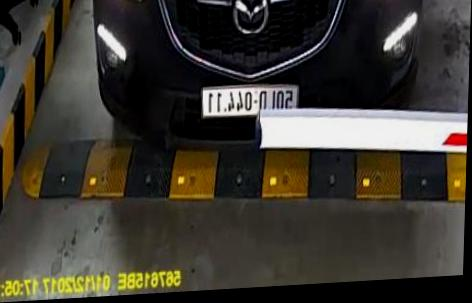License_Plate: (198, 77, 301, 124)
